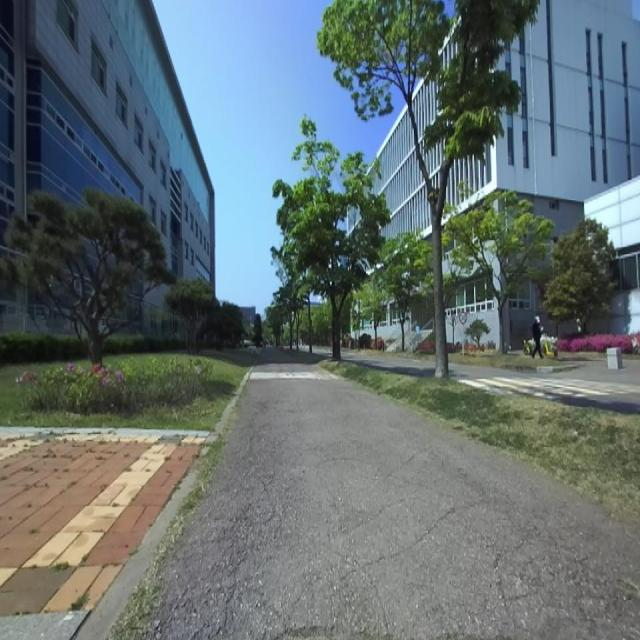sidewalk: (150, 350, 640, 639)
